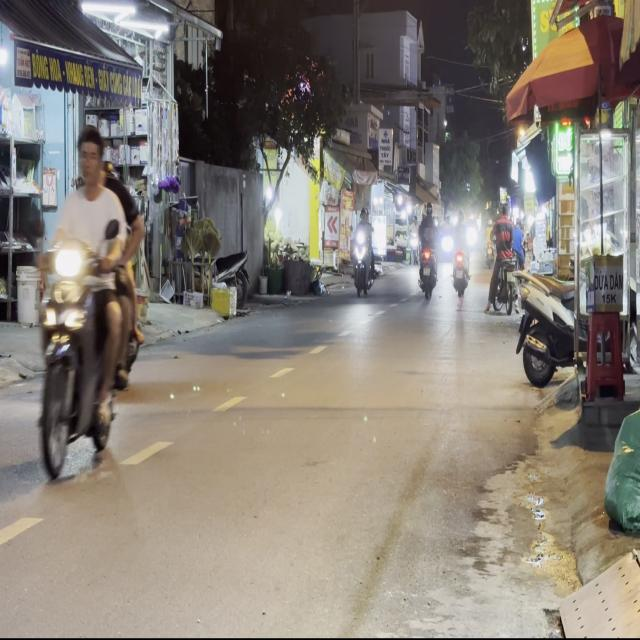licenseplate: (31, 121, 147, 483)
motorcyclist: (75, 122, 105, 188)
